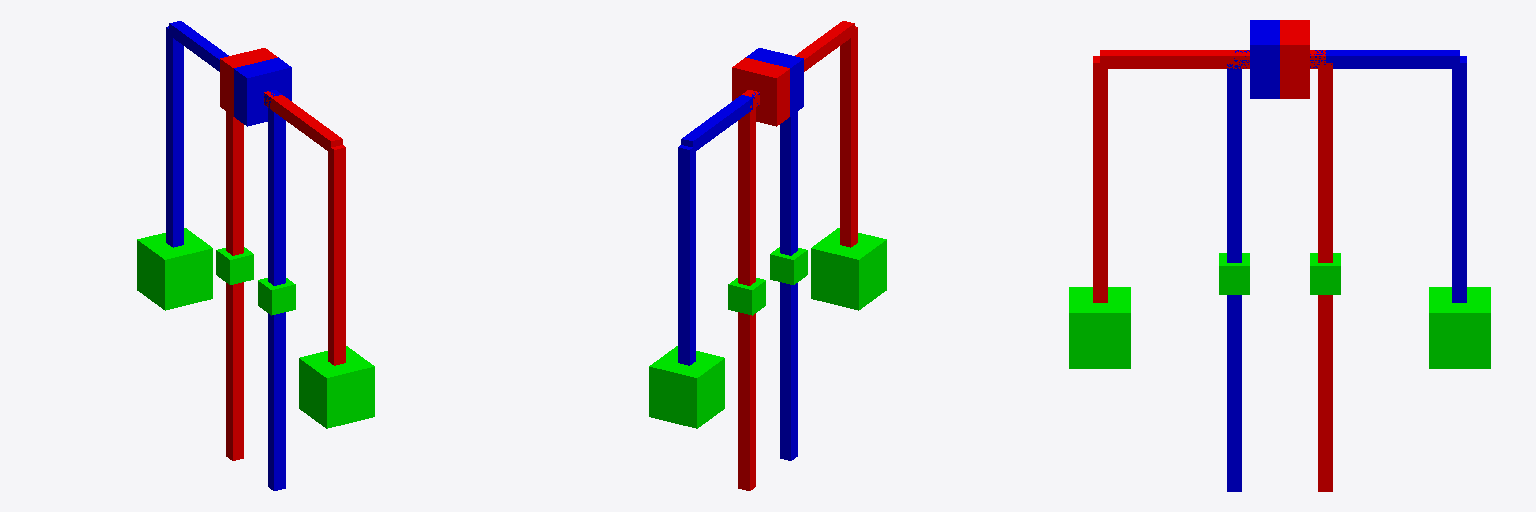
robot.urdf — stick_bot:
<?xml version='1.0' encoding='utf-8'?>
<robot name="stick_bot">
  <link name="left_leg">
    <visual name="left_leg_motor">
      <origin xyz="0 0.0051 0" rpy="0 0 0" />
      <geometry>
        <box size="0.0195 0.0102 0.02" />
      </geometry>
      <material>
        <color rgba="1 0 0 0.5" />
      </material>
    </visual>
    <visual name="left_leg_axel">
      <origin xyz="0 0.00775 0" rpy="0 0 0" />
      <geometry>
        <box size="0.005 0.0155 0.005" />
      </geometry>
      <material>
        <color rgba="1 0 0 0.5" />
      </material>
    </visual>
    <visual name="left_leg_arm_axel">
      <origin xyz="0 -0.03035 0" rpy="0 0 0" />
      <geometry>
        <box size="0.005 0.0607 0.005" />
      </geometry>
      <material>
        <color rgba="1 0 0 0.5" />
      </material>
    </visual>
    <visual name="left_leg_arm">
      <origin xyz="0 -0.0607 -0.05" rpy="0 0 0" />
      <geometry>
        <box size="0.005 0.005 0.1" />
      </geometry>
      <material>
        <color rgba="1 0 0 0.5" />
      </material>
    </visual>
    <visual name="left_leg_hand_mass">
      <origin xyz="0 -0.0607 -0.1" rpy="0 0 0" />
      <geometry>
        <box size="0.021 0.021 0.021" />
      </geometry>
      <material>
        <color rgba="0 1 0 0.5" />
      </material>
    </visual>
    <visual name="left_leg_link">
      <origin xyz="0 0.0155 -0.0799" rpy="0 0 0" />
      <geometry>
        <box size="0.005 0.005 0.1598" />
      </geometry>
      <material>
        <color rgba="1 0 0 0.5" />
      </material>
    </visual>
    <visual name="left_leg_mass">
      <origin xyz="0 0.0155 -0.0799" rpy="0 0 0" />
      <geometry>
        <box size="0.0105 0.0105 0.0105" />
      </geometry>
      <material>
        <color rgba="0 1 0 0.5" />
      </material>
    </visual>
    <visual name="left_leg_foot_visual">
      <origin xyz="0.0135 0.0155 -0.1598" rpy="0 0 0" />
      <geometry>
        <mesh filename="/home/sman/Work/CMU/Research/LEGO-mujoco/stickbot/X_0.2464_Y_0.2511_Z_0.2401_box_x_0.1007_box_y_0.0543/left_foot_geom.obj" />
      </geometry>
      <material>
        <color rgba="1 0 0 0.5" />
      </material>
    </visual>
    <collision name="left_leg_foot_collision">
      <origin xyz="0.0135 0.0155 -0.1598" rpy="0 0 0" />
      <geometry>
        <mesh filename="/home/sman/Work/CMU/Research/LEGO-mujoco/stickbot/X_0.2464_Y_0.2511_Z_0.2401_box_x_0.1007_box_y_0.0543/left_foot_geom.obj" />
      </geometry>
      <material>
        <color rgba="1 0 0 0.5" />
      </material>
    </collision>
  </link>
  <link name="right_leg">
    <visual name="right_leg_motor">
      <origin xyz="0 -0.0051 0" rpy="0 0 0" />
      <geometry>
        <box size="0.0195 0.0102 0.02" />
      </geometry>
      <material>
        <color rgba="0 0 1 0.5" />
      </material>
    </visual>
    <visual name="right_leg_axel">
      <origin xyz="0 -0.00775 0" rpy="0 0 0" />
      <geometry>
        <box size="0.005 0.0155 0.005" />
      </geometry>
      <material>
        <color rgba="0 0 1 0.5" />
      </material>
    </visual>
    <visual name="right_leg_arm_axel">
      <origin xyz="0 0.03035 0" rpy="0 0 0" />
      <geometry>
        <box size="0.005 0.0607 0.005" />
      </geometry>
      <material>
        <color rgba="0 0 1 0.5" />
      </material>
    </visual>
    <visual name="right_leg_arm">
      <origin xyz="0 0.0607 -0.05" rpy="0 0 0" />
      <geometry>
        <box size="0.005 0.005 0.1" />
      </geometry>
      <material>
        <color rgba="0 0 1 0.5" />
      </material>
    </visual>
    <visual name="right_leg_hand_mass">
      <origin xyz="0 0.0607 -0.1" rpy="0 0 0" />
      <geometry>
        <box size="0.021 0.021 0.021" />
      </geometry>
      <material>
        <color rgba="0 1 0 0.5" />
      </material>
    </visual>
    <visual name="right_leg_link">
      <origin xyz="0 -0.0155 -0.0799" rpy="0 0 0" />
      <geometry>
        <box size="0.005 0.005 0.1598" />
      </geometry>
      <material>
        <color rgba="0 0 1 0.5" />
      </material>
    </visual>
    <visual name="right_leg_mass">
      <origin xyz="0 -0.0155 -0.0799" rpy="0 0 0" />
      <geometry>
        <box size="0.0105 0.0105 0.0105" />
      </geometry>
      <material>
        <color rgba="0 1 0 0.5" />
      </material>
    </visual>
    <visual name="right_leg_foot_visual">
      <origin xyz="0.0135 -0.0155 -0.1598" rpy="0 0 0" />
      <geometry>
        <mesh filename="/home/sman/Work/CMU/Research/LEGO-mujoco/stickbot/X_0.2464_Y_0.2511_Z_0.2401_box_x_0.1007_box_y_0.0543/right_foot_geom.obj" />
      </geometry>
      <material>
        <color rgba="0 0 1 0.5" />
      </material>
    </visual>
    <collision name="right_leg_foot_collision">
      <origin xyz="0.0135 -0.0155 -0.1598" rpy="0 0 0" />
      <geometry>
        <mesh filename="/home/sman/Work/CMU/Research/LEGO-mujoco/stickbot/X_0.2464_Y_0.2511_Z_0.2401_box_x_0.1007_box_y_0.0543/right_foot_geom.obj" />
      </geometry>
      <material>
        <color rgba="0 0 1 0.5" />
      </material>
    </collision>
  </link>
  <link name="left_leg_hand_mass_mass_link">
    <inertial name="left_leg_hand_mass_inertial">
      <origin xyz="0 -0.0607 -0.1" rpy="0 0 0" />
      <mass value="0.0957" />
      <inertia ixx="0" ixy="0" ixz="0" iyy="0" iyz="0" izz="0" />
    </inertial>
  </link>
  <link name="left_leg_mass_mass_link">
    <inertial name="left_leg_mass_inertial">
      <origin xyz="0 0.0155 -0.0799" rpy="0 0 0" />
      <mass value="0.097" />
      <inertia ixx="0" ixy="0" ixz="0" iyy="0" iyz="0" izz="0" />
    </inertial>
  </link>
  <link name="left_feet_mass_link">
    <inertial name="left_feet_inertial">
      <origin xyz="0.0135 0.0155 -0.1598" rpy="0 0 0" />
      <mass value="0.1039" />
      <inertia ixx="0" ixy="0" ixz="0" iyy="0" iyz="0" izz="0" />
    </inertial>
  </link>
  <link name="right_leg_hand_mass_mass_link">
    <inertial name="right_leg_hand_mass_inertial">
      <origin xyz="0 0.0607 -0.1" rpy="0 0 0" />
      <mass value="0.0957" />
      <inertia ixx="0" ixy="0" ixz="0" iyy="0" iyz="0" izz="0" />
    </inertial>
  </link>
  <link name="right_leg_mass_mass_link">
    <inertial name="right_leg_mass_inertial">
      <origin xyz="0 -0.0155 -0.0799" rpy="0 0 0" />
      <mass value="0.097" />
      <inertia ixx="0" ixy="0" ixz="0" iyy="0" iyz="0" izz="0" />
    </inertial>
  </link>
  <link name="right_feet_mass_link">
    <inertial name="right_feet_inertial">
      <origin xyz="0.0135 -0.0155 -0.1598" rpy="0 0 0" />
      <mass value="0.1039" />
      <inertia ixx="0" ixy="0" ixz="0" iyy="0" iyz="0" izz="0" />
    </inertial>
  </link>
  <joint name="hip" type="revolute">
    <origin xyz="0 0 0" rpy="0 0 0" />
    <parent link="left_leg" />
    <child link="right_leg" />
    <axis xyz="0 1 0" />
    <limit lower="-0.785" upper="0.785" />
  </joint>
  <joint name="fixed_left_leg_hand_mass_mass_link" type="fixed">
    <origin xyz="0 0 0" rpy="0 0 0" />
    <parent link="left_leg" />
    <child link="left_leg_hand_mass_mass_link" />
  </joint>
  <joint name="fixed_left_leg_mass_mass_link" type="fixed">
    <origin xyz="0 0 0" rpy="0 0 0" />
    <parent link="left_leg" />
    <child link="left_leg_mass_mass_link" />
  </joint>
  <joint name="fixed_left_feet_mass_link" type="fixed">
    <origin xyz="0 0 0" rpy="0 0 0" />
    <parent link="left_leg" />
    <child link="left_feet_mass_link" />
  </joint>
  <joint name="fixed_right_leg_hand_mass_mass_link" type="fixed">
    <origin xyz="0 0 0" rpy="0 0 0" />
    <parent link="right_leg" />
    <child link="right_leg_hand_mass_mass_link" />
  </joint>
  <joint name="fixed_right_leg_mass_mass_link" type="fixed">
    <origin xyz="0 0 0" rpy="0 0 0" />
    <parent link="right_leg" />
    <child link="right_leg_mass_mass_link" />
  </joint>
  <joint name="fixed_right_feet_mass_link" type="fixed">
    <origin xyz="0 0 0" rpy="0 0 0" />
    <parent link="right_leg" />
    <child link="right_feet_mass_link" />
  </joint>
  <mujoco>
    <compiler strippath="false" />
  </mujoco>
</robot>

--- Render facts (derived) ---
3 views of the same robot in one strip: view 1: azimuth 30°, elevation 25°; view 2: azimuth 150°, elevation 25°; view 3: azimuth 270°, elevation 25° (orthographic).
Robot: stick_bot — 8 links, 7 joints (1 revolute, 6 fixed); root link left_leg; default pose: every joint at zero.
Links seen in each view (by area): view 1: right_leg, left_leg; view 2: left_leg, right_leg; view 3: left_leg, right_leg.
Boxes of the visible links, x1,y1,x2,y2 form: right_leg: (137,21,295,490); left_leg: (216,48,374,460); left_leg: (728,21,886,490); right_leg: (649,48,807,460); left_leg: (1069,20,1340,491); right_leg: (1219,20,1490,491).
Size in the robot's own frame: 0.021 by 0.1424 by 0.1698 metres.
Geometry: only primitive shapes (box / cylinder / sphere) drawn; not drawn: 2 mesh visuals (reference in a form the renderer does not follow).
